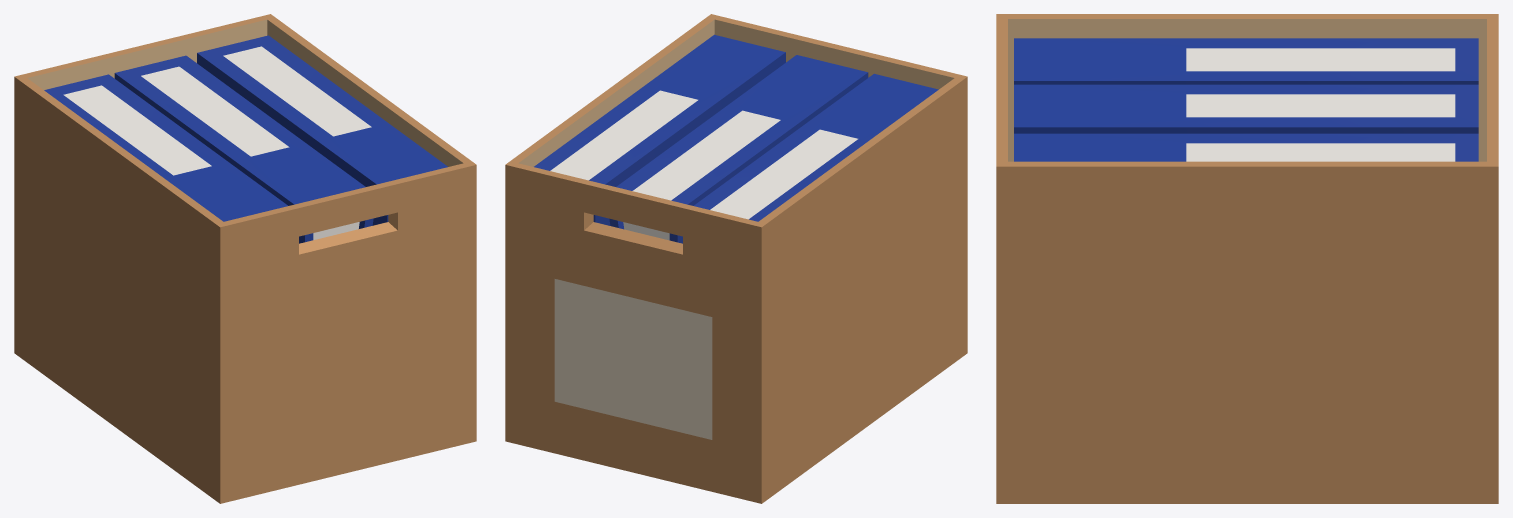
File: g_o_Casefiles.fbx
The picture shows the model from 3 angles, left to right: view 1: azimuth 30°, elevation 25°; view 2: azimuth 150°, elevation 25°; view 3: azimuth 270°, elevation 25°; orthographic projection. The views are drawn at different scales.
Visible parts, largest first — view 1: casefiles; view 2: casefiles; view 3: casefiles.
Part boxes in pixels (x1,y1,x2,y2): casefiles: (14, 14, 476, 503); casefiles: (505, 14, 967, 503); casefiles: (996, 14, 1498, 503).
Bounding box in the file's own units: 0.311 × 0.3204 × 0.4325.
